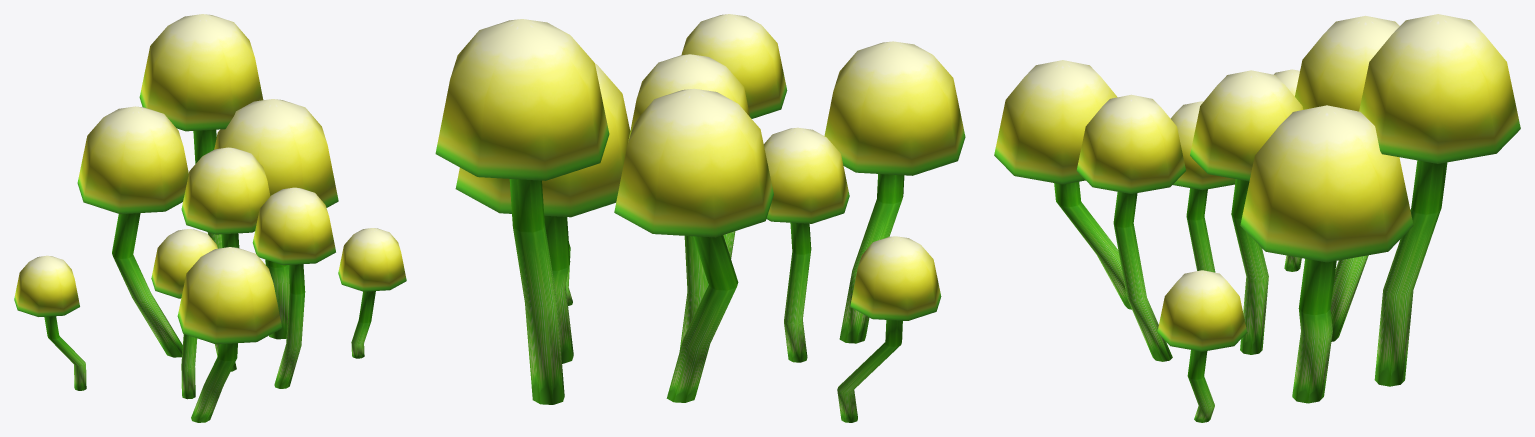
The model's file is Mushroom23.fbx.
The picture shows the model from 3 angles, left to right: view 1: azimuth 30°, elevation 25°; view 2: azimuth 150°, elevation 25°; view 3: azimuth 270°, elevation 25°; orthographic projection. The views are drawn at different scales.
Parts seen in each view (by area): view 1: Mushroom23; view 2: Mushroom23; view 3: Mushroom23.
Part boxes in pixels (x1=…): Mushroom23: x1=14, y1=14, x2=406, y2=422; Mushroom23: x1=435, y1=14, x2=965, y2=422; Mushroom23: x1=994, y1=14, x2=1520, y2=422.
Size of the model in its own units: 1.7 by 1.34 by 1.74.
